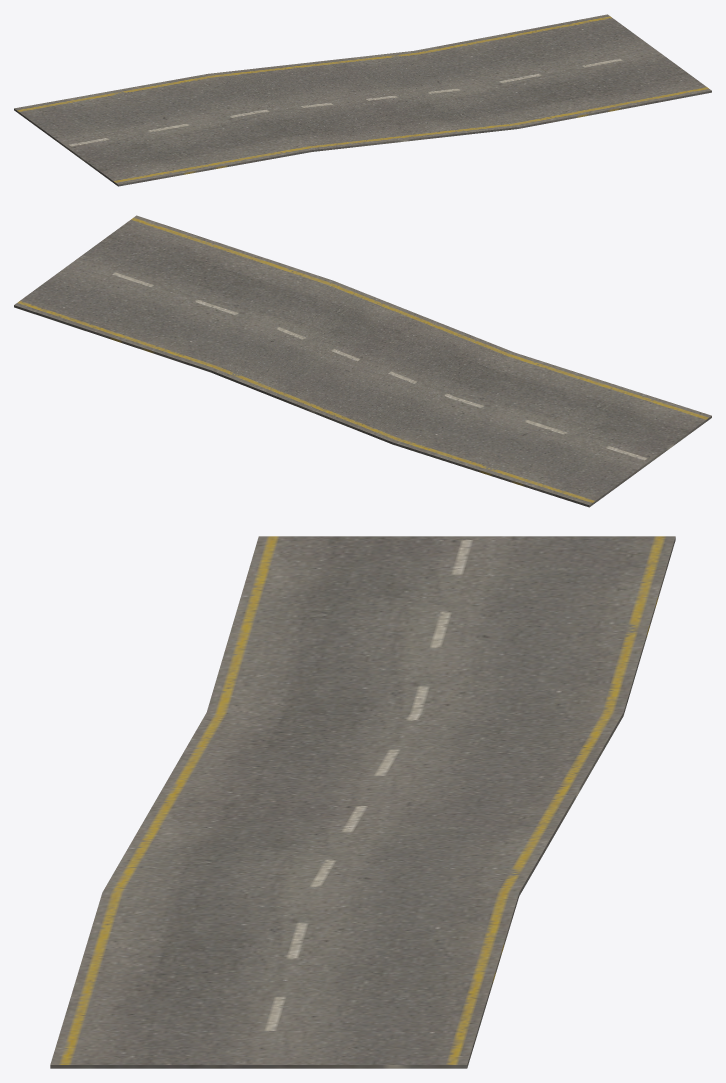
Rendered from Urban_Road1SheerNoSides_Model.fbx.
3 renders of one model, top to bottom at view 1: azimuth 30°, elevation 25°; view 2: azimuth 150°, elevation 25°; view 3: azimuth 270°, elevation 25°, orthographic. The views are drawn at different scales.
Parts seen in each view (by area): view 1: Urban_Road1SheerNoSides_Mesh; view 2: Urban_Road1SheerNoSides_Mesh; view 3: Urban_Road1SheerNoSides_Mesh.
Part boxes in pixels (box(x1,y1,x2,y2)): Urban_Road1SheerNoSides_Mesh: box(14, 14, 711, 186); Urban_Road1SheerNoSides_Mesh: box(14, 215, 711, 507); Urban_Road1SheerNoSides_Mesh: box(50, 536, 675, 1068).
Size of the model in its own units: 48 by 0.32 by 24.
